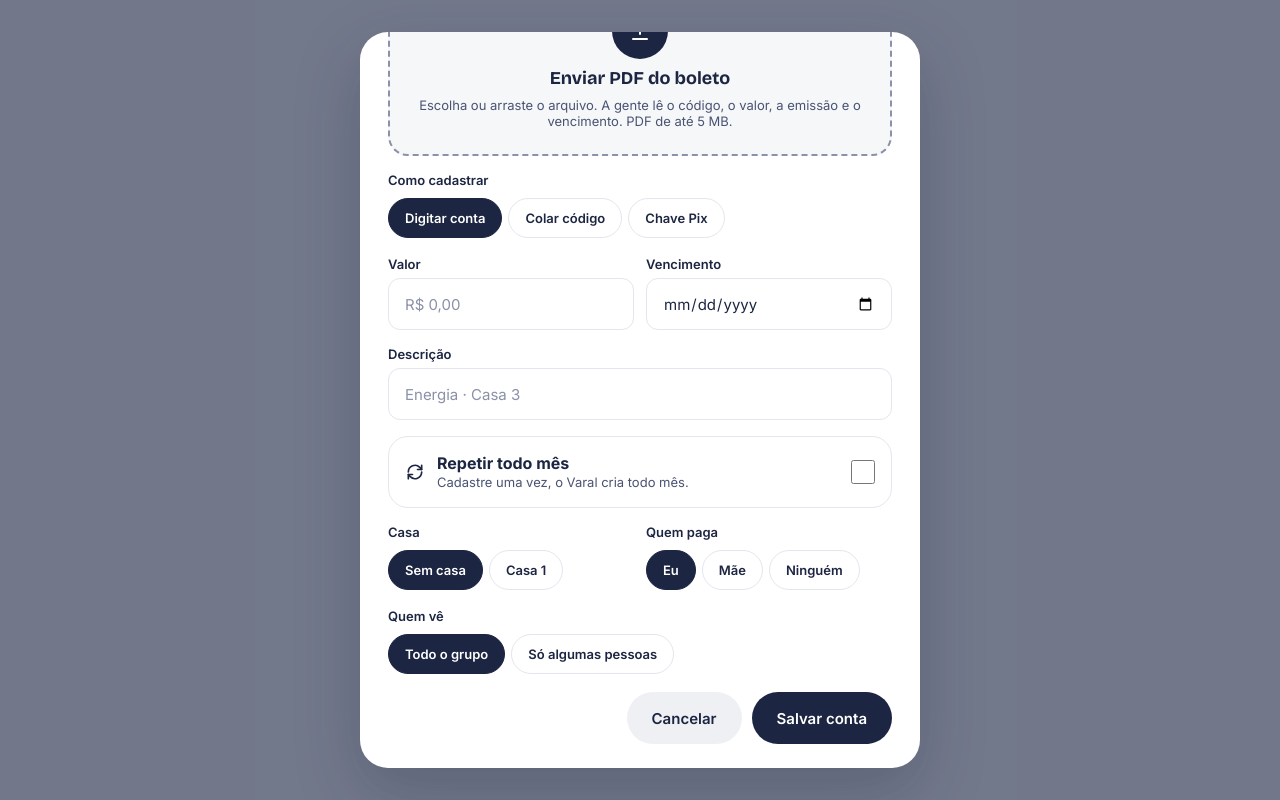
Test: ca28: restricted bill with another payer warns before saving; observer is not a payer option
(page scrolled)
Expected: the text "Quem paga também vê esta conta" is not shown
Step 1. Click the button "Só algumas pessoas" → x=593, y=654, box [511,632,674,676]
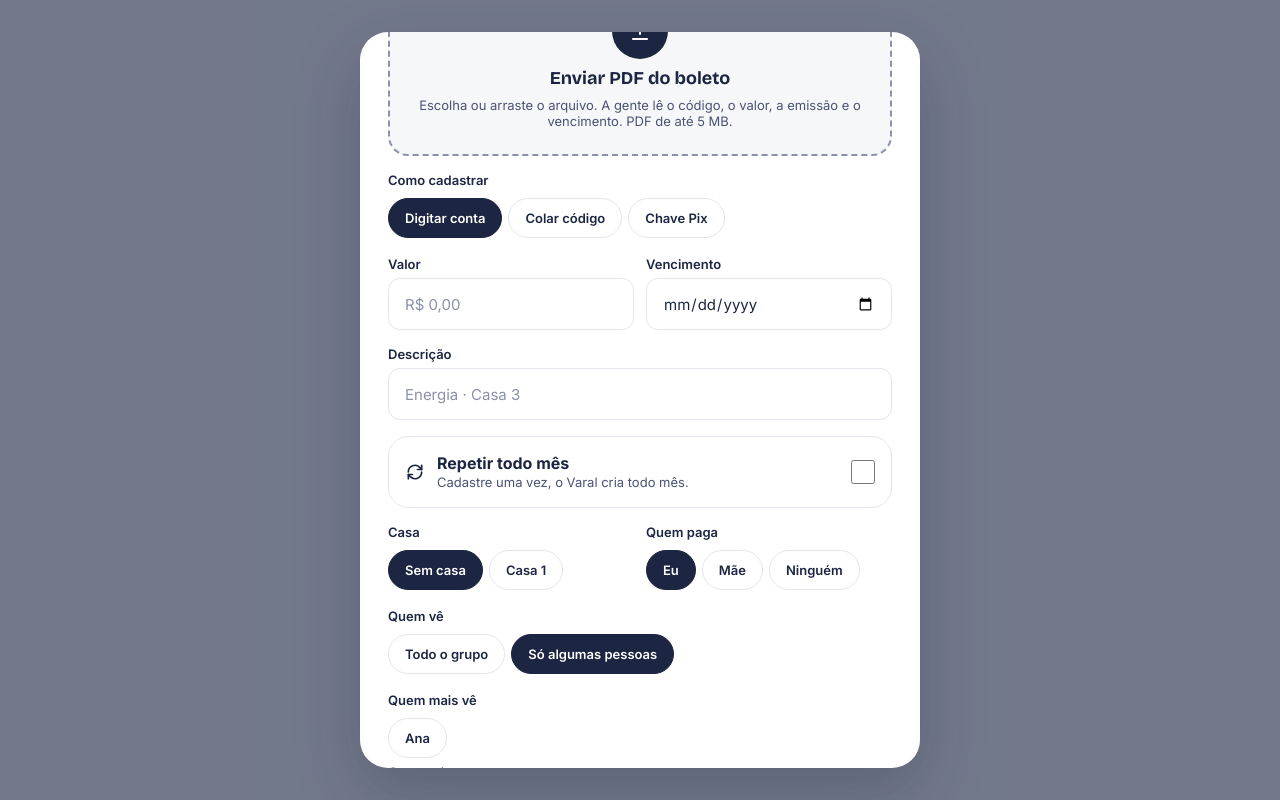
Expected: the text "Quem paga também vê esta conta" is not shown
Step 2. Click the button "Mãe" → x=732, y=570, box [702,548,763,592]
(page scrolled)
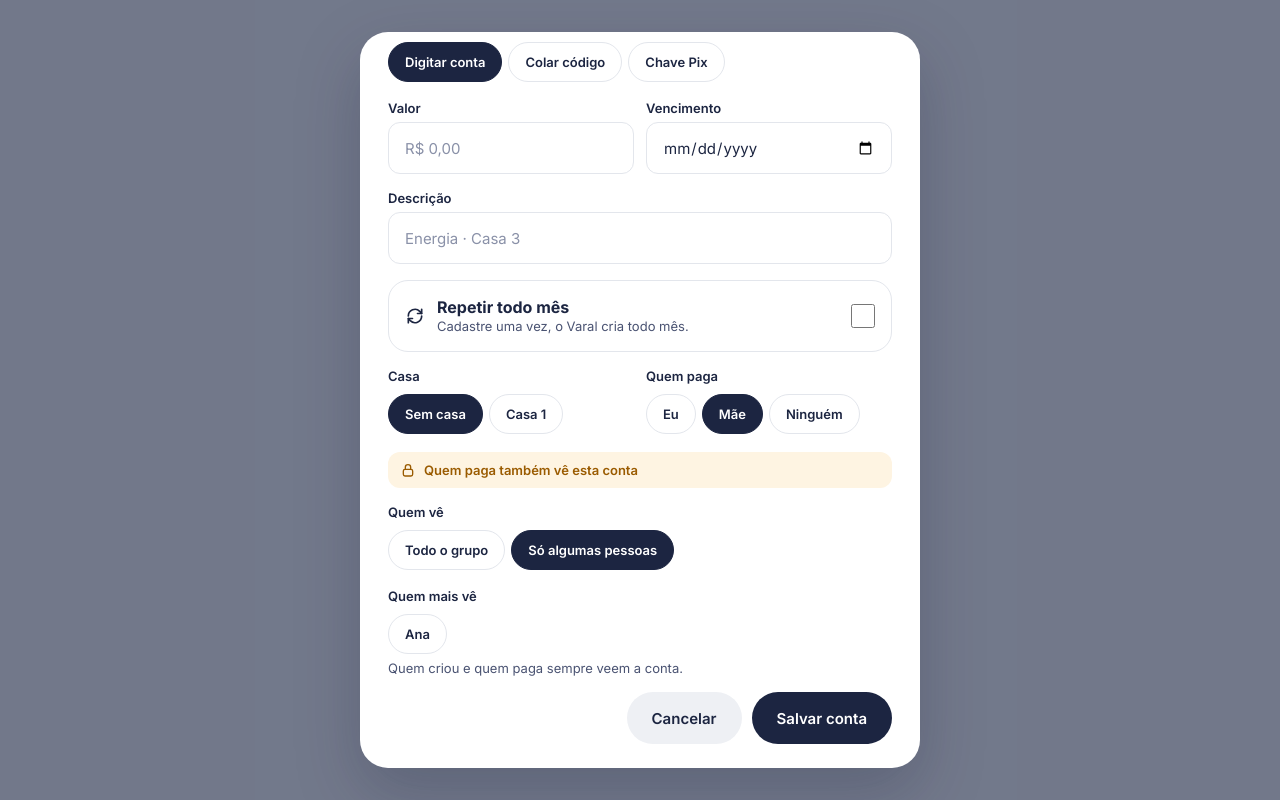
Expected: the element "Quem paga" does not show "Ana"
Expected: the element "Quem mais vê" shows "Ana", [388,612,447,656]
Expected: the text "Quem paga também vê esta conta" is shown, [388,452,892,488]
